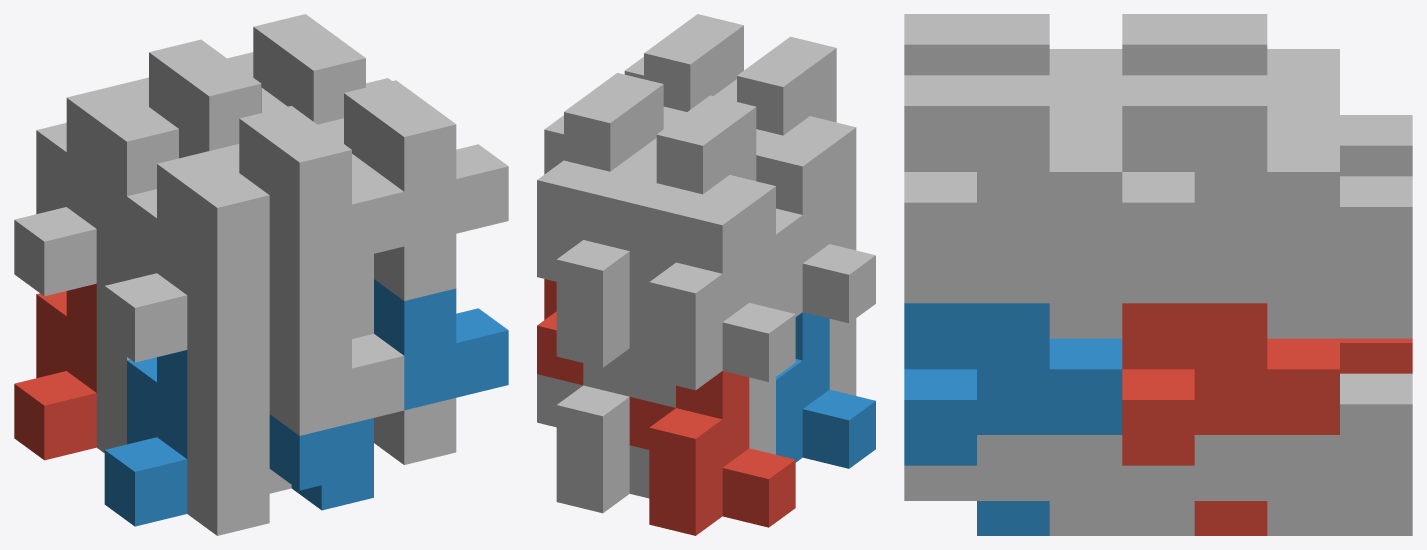
File: tiling.obj
The picture shows the model from 3 angles, left to right: view 1: azimuth 30°, elevation 25°; view 2: azimuth 150°, elevation 25°; view 3: azimuth 270°, elevation 25°; orthographic projection. The views are drawn at different scales.
Visible parts, largest first — view 1: copy_2_domain_4, copy_2_domain_2, copy_2_domain_8, copy_2_domain_3, copy_1_domain_4, copy_1_domain_2, copy_2_domain_6, copy_1_domain_3, copy_1_domain_1, copy_2_domain_7, copy_1_domain_6, copy_1_domain_8 (+1 smaller); view 2: copy_1_domain_3, copy_1_domain_1, copy_2_domain_3, copy_1_domain_7, copy_1_domain_4, copy_2_domain_7, copy_2_domain_4, copy_1_domain_5, copy_1_domain_2, copy_2_domain_8, copy_2_domain_1, copy_2_domain_5 (+1 smaller); view 3: copy_2_domain_8, copy_2_domain_7, copy_2_domain_6, copy_2_domain_5, copy_1_domain_7, copy_1_domain_5, copy_1_domain_6, copy_1_domain_8, copy_2_domain_4, copy_2_domain_3, copy_1_domain_3, copy_1_domain_1 (+1 smaller).
Boxes of the visible parts, left/top/right/bottom form: copy_2_domain_4: left=187, top=106, right=404, bottom=371; copy_2_domain_2: left=187, top=305, right=404, bottom=535; copy_2_domain_8: left=318, top=80, right=508, bottom=338; copy_2_domain_3: left=96, top=39, right=287, bottom=288; copy_1_domain_4: left=104, top=151, right=351, bottom=362; copy_1_domain_2: left=104, top=350, right=351, bottom=526; copy_2_domain_6: left=291, top=279, right=508, bottom=510; copy_1_domain_3: left=14, top=85, right=148, bottom=296; copy_1_domain_1: left=14, top=283, right=96, bottom=460; copy_2_domain_7: left=227, top=14, right=391, bottom=124; copy_1_domain_6: left=269, top=398, right=456, bottom=493; copy_1_domain_8: left=374, top=234, right=456, bottom=300; copy_1_domain_3: left=629, top=194, right=795, bottom=390; copy_1_domain_1: left=629, top=371, right=795, bottom=535; copy_2_domain_3: left=629, top=95, right=775, bottom=308; copy_1_domain_7: left=537, top=172, right=655, bottom=367; copy_1_domain_4: left=756, top=135, right=875, bottom=323; copy_2_domain_7: left=537, top=73, right=663, bottom=239; copy_2_domain_4: left=717, top=36, right=856, bottom=250; copy_1_domain_5: left=537, top=348, right=649, bottom=513; copy_1_domain_2: left=776, top=312, right=875, bottom=468; copy_2_domain_8: left=624, top=14, right=743, bottom=128; copy_2_domain_1: left=629, top=348, right=775, bottom=454; copy_2_domain_5: left=537, top=279, right=583, bottom=385; copy_2_domain_8: left=904, top=75, right=1122, bottom=268; copy_2_domain_7: left=1122, top=75, right=1339, bottom=268; copy_2_domain_6: left=904, top=303, right=1122, bottom=535; copy_2_domain_5: left=1122, top=303, right=1339, bottom=535; copy_1_domain_7: left=1122, top=110, right=1412, bottom=338; copy_1_domain_5: left=1122, top=373, right=1412, bottom=535; copy_1_domain_6: left=904, top=435, right=1194, bottom=535; copy_1_domain_8: left=904, top=110, right=1122, bottom=338; copy_2_domain_4: left=904, top=14, right=1122, bottom=110; copy_2_domain_3: left=1122, top=14, right=1339, bottom=110; copy_1_domain_3: left=1267, top=49, right=1412, bottom=176; copy_1_domain_1: left=1340, top=338, right=1412, bottom=373.
Size of the model in its own units: 6 by 7 by 7.
